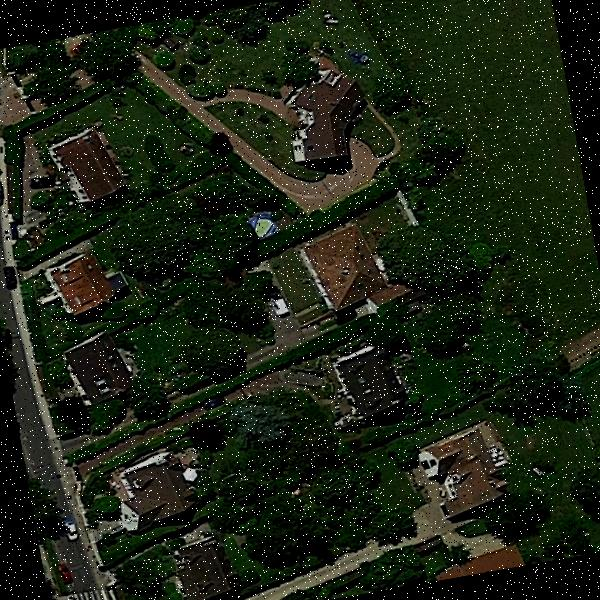Buildings: (279, 70, 378, 170), (418, 427, 511, 510), (108, 446, 202, 528), (54, 115, 132, 203), (303, 224, 379, 307), (330, 346, 402, 422), (54, 332, 132, 400), (51, 248, 121, 316), (171, 538, 235, 600), (429, 546, 534, 582)
